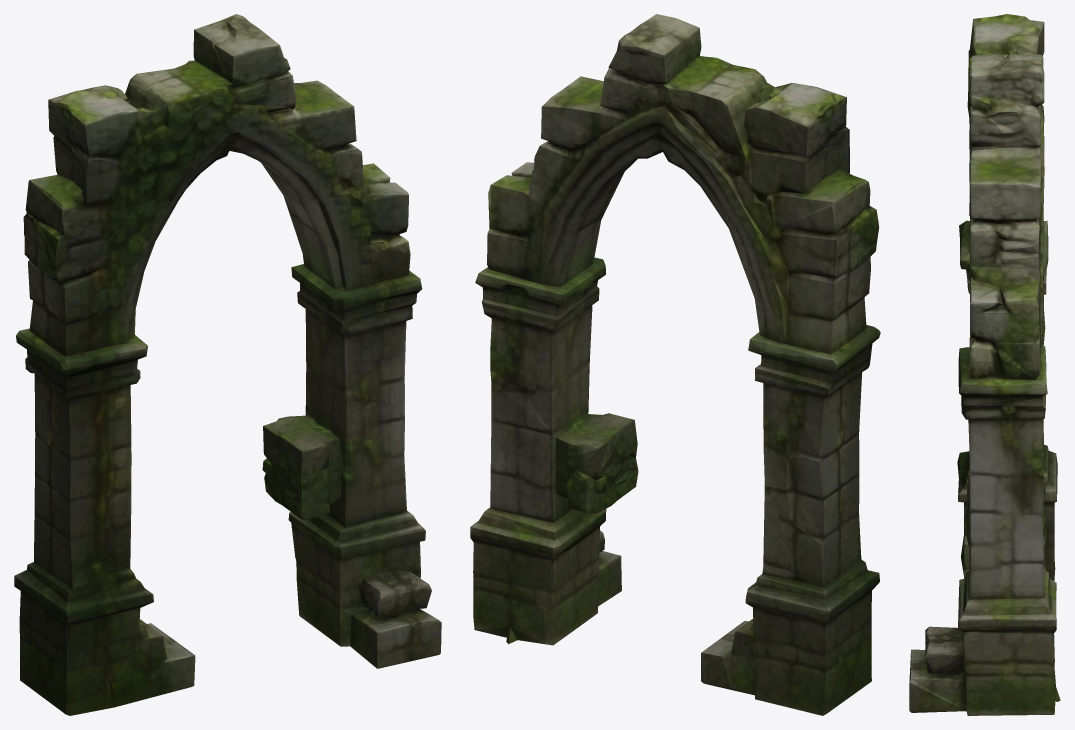
File: arch.glb
3 renders of one model, left to right at view 1: azimuth 30°, elevation 25°; view 2: azimuth 150°, elevation 25°; view 3: azimuth 270°, elevation 25°, orthographic. The views are drawn at different scales.
Visible parts, largest first — view 1: geometry_0; view 2: geometry_0; view 3: geometry_0.
Part boxes in pixels (x1,y1,x2,y2): geometry_0: [14, 14, 441, 715]; geometry_0: [470, 14, 880, 715]; geometry_0: [909, 14, 1060, 715].
Size of the model in its own units: 0.6087 by 0.9987 by 0.234.
1 material, 1 textured.
